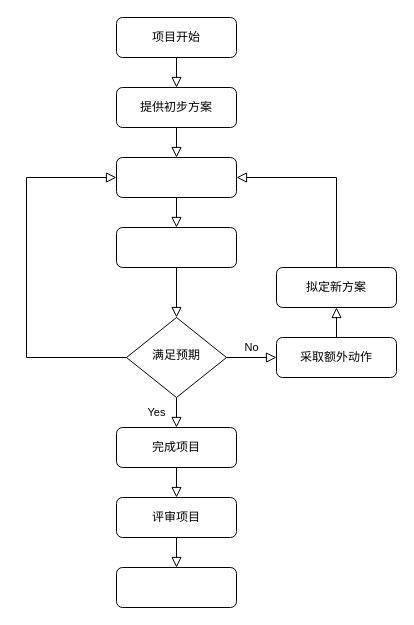
This 414x625 diagram has some shape labels left out. The centre of each missing label's shape, as x and y in pixels:
撰写项目文档: point 176,587
比较项目目标和当前进展: point 176,247
获取项目信息: point 176,177
